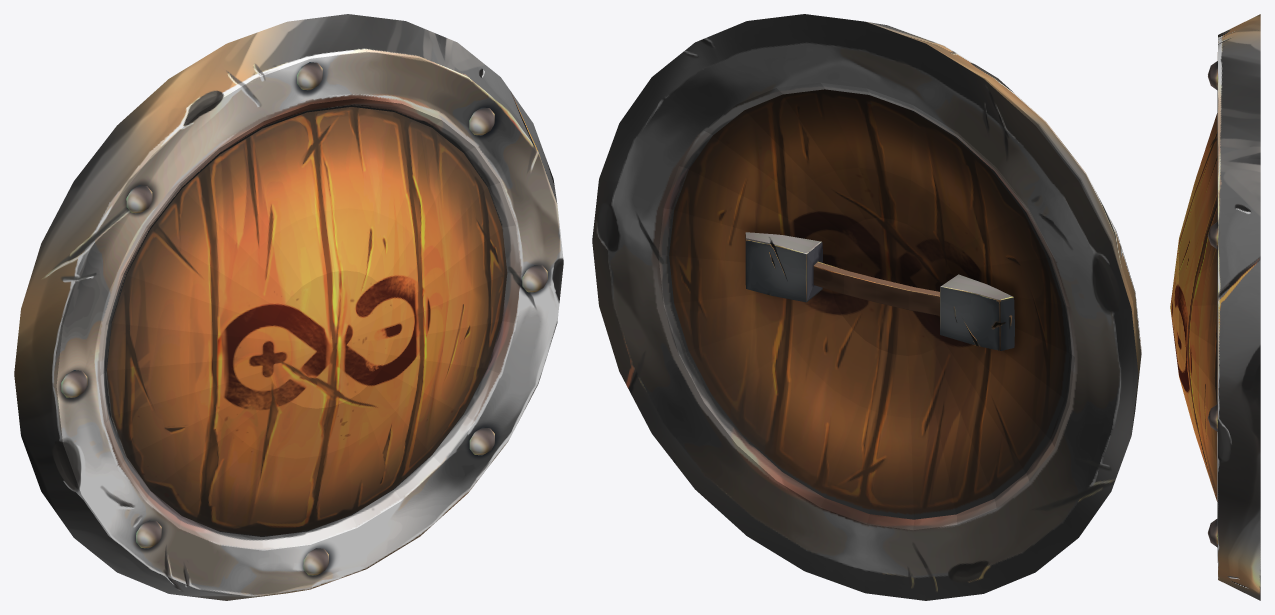
Rendered from sheild.fbx.
The picture shows the model from 3 angles, left to right: view 1: azimuth 30°, elevation 25°; view 2: azimuth 150°, elevation 25°; view 3: azimuth 270°, elevation 25°; orthographic projection. The views are drawn at different scales.
Visible parts, largest first — view 1: 完成; view 2: 完成; view 3: 完成.
Boxes of the visible parts, bbox=[...] form: 完成: bbox=[14, 14, 563, 600]; 完成: bbox=[592, 14, 1141, 600]; 完成: bbox=[1170, 14, 1260, 600].
Bounding box in the file's own units: 62.24 × 62.24 × 9.59.
1 material, 1 textured.
